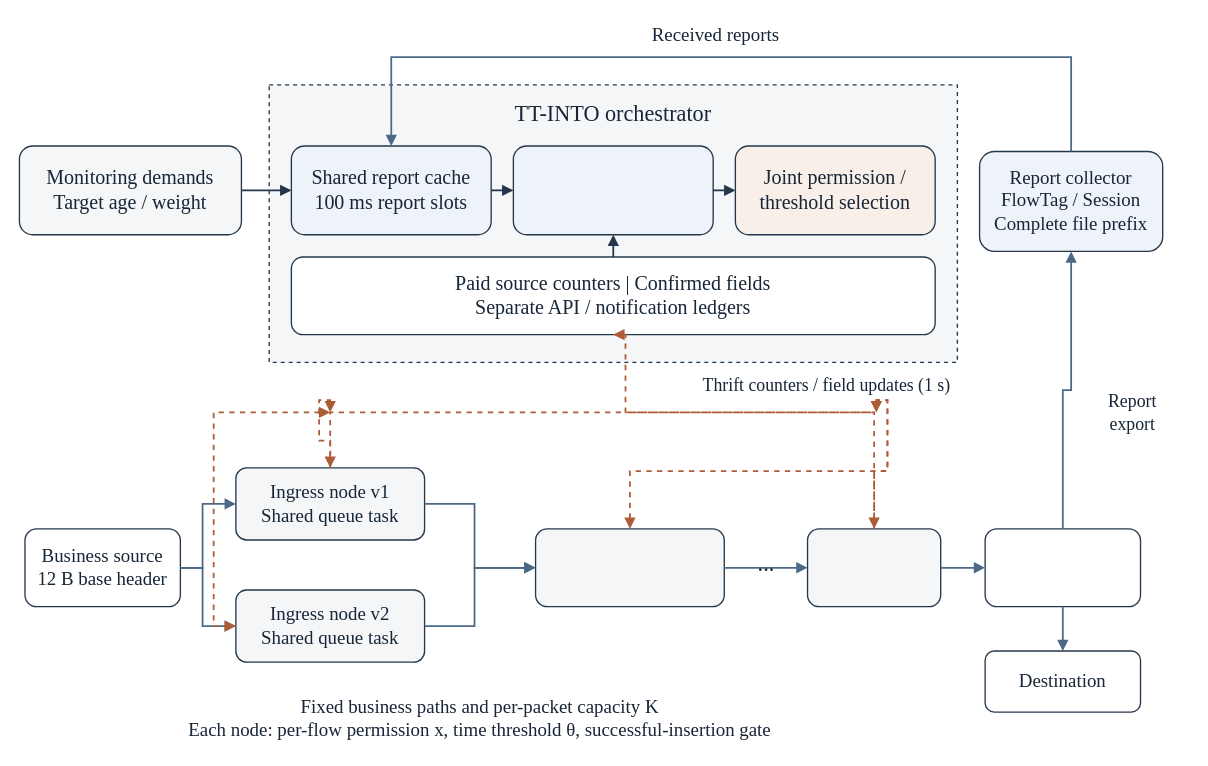
The diagram is 1208 pixels wide and 766 high, and some of its shapes have lost their labels. Here are the shapes that lost their labels. From the top down, the centre of each, then its label:
At pixel 612 190: "Carrier opportunity and gate prediction".
At pixel 629 567: "Merge node v3 Shared queue task".
At pixel 873 567: "Node vn Shared task".
At pixel 1062 567: "Telemetry sink Export and strip".
